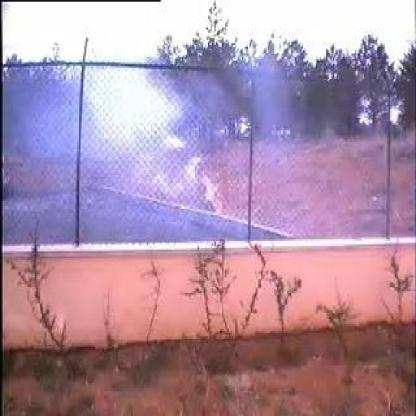-: (41, 68, 240, 239)
